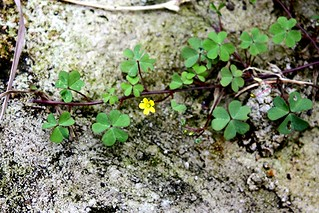oxalis: (50, 40, 306, 148)
